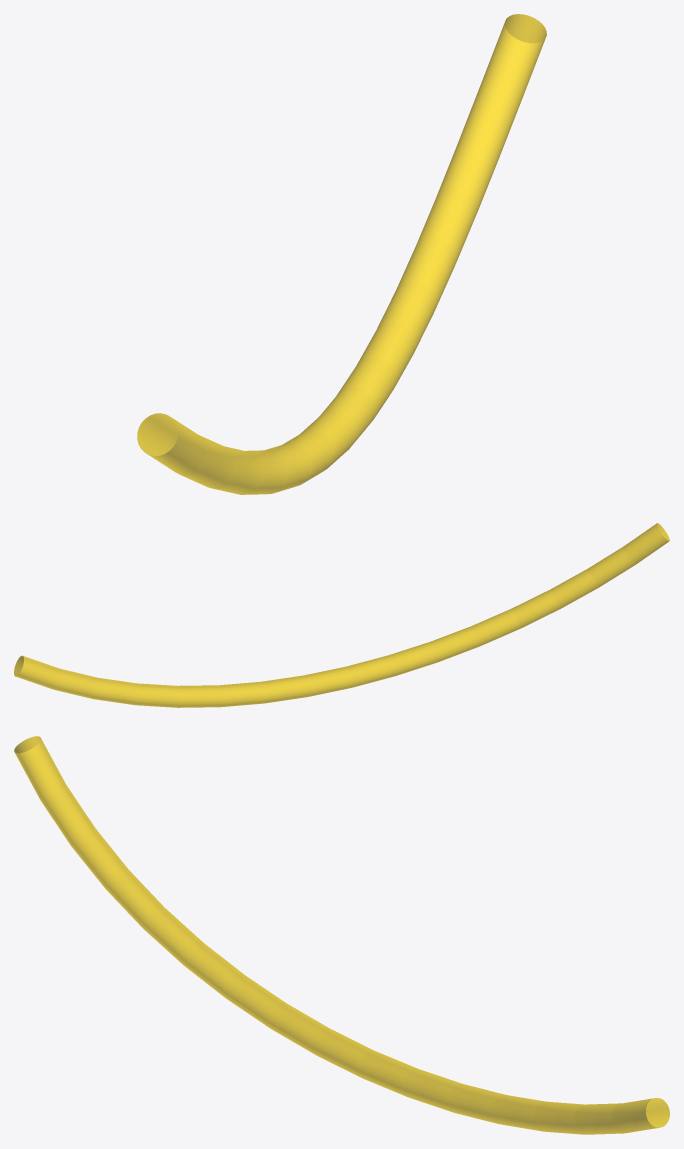
File: Event_27938768_track_55.fbx
3 views of the same model, one above another, from view 1: azimuth 30°, elevation 25°; view 2: azimuth 150°, elevation 25°; view 3: azimuth 270°, elevation 25° (orthographic). The views are drawn at different scales.
Parts seen in each view (by area): view 1: Model; view 2: Model; view 3: Model.
Boxes of the visible parts, bbox=[...] form: Model: bbox=[137, 14, 546, 494]; Model: bbox=[14, 523, 669, 707]; Model: bbox=[14, 736, 669, 1134].
Bounding box in the file's own units: 0.8958 × 0.2769 × 0.8675.
